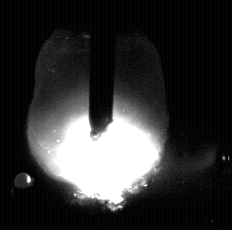arame: (90, 0, 114, 136)
poca: (27, 0, 167, 230)
